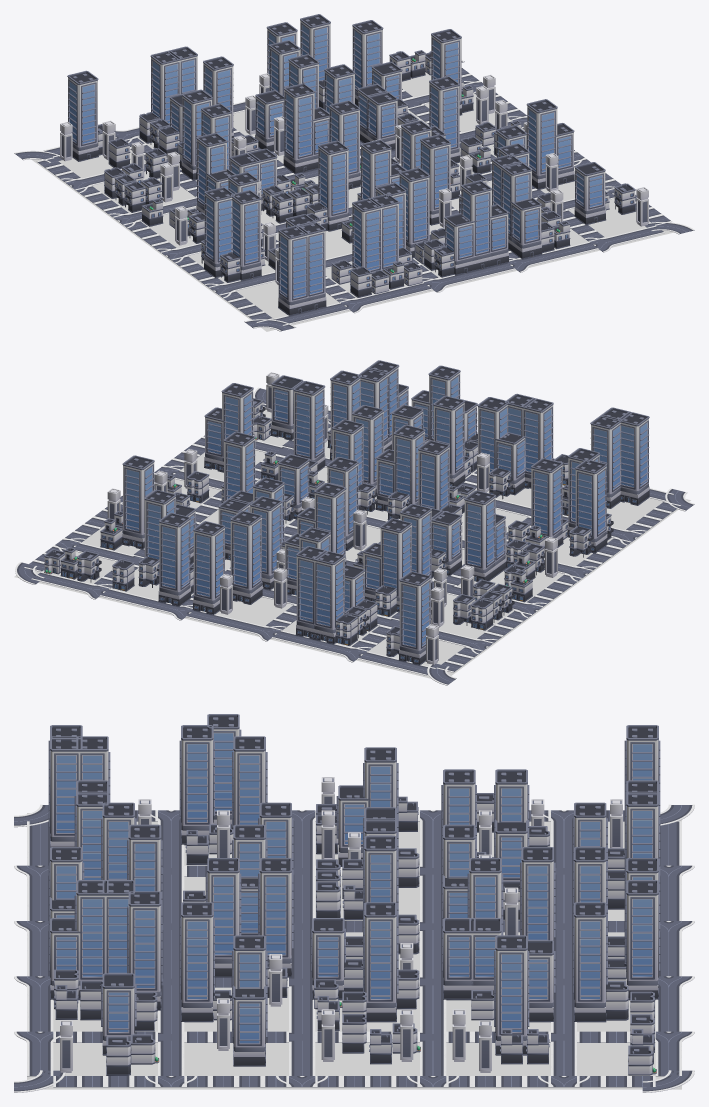
The model's file is city_map.glb.
The picture shows the model from 3 angles, top to bottom: view 1: azimuth 30°, elevation 25°; view 2: azimuth 150°, elevation 25°; view 3: azimuth 270°, elevation 25°; orthographic projection. The views are drawn at different scales.
Parts seen in each view (by area): view 1: land_City_Ground, shop-building-skyscraper-b.001, shop-building-skyscraper-b.025, building-skyscraper-b.033, building-skyscraper-b.019, shop-building-skyscraper-b.012, shop-building-skyscraper-b.014, building-skyscraper-b.018, shop-building-skyscraper-b.005, shop_building-skyscraper-b.003, shop_building-skyscraper-b.010, building-skyscraper-b.023 (+48 smaller); view 2: land_City_Ground, building-skyscraper-b.037, building-skyscraper-b.031, building-skyscraper-b.033, building-skyscraper-b.036, building-skyscraper-b.021, shop-building-skyscraper-b.001, building-skyscraper-b.034, shop-building-skyscraper-b.013, shop-building-skyscraper-b.014, shop_building-skyscraper-b.016, building-skyscraper-b.028 (+56 smaller); view 3: land_City_Ground, shop-building-skyscraper-b.013, building-skyscraper-b.032, building-skyscraper-b.023, building-skyscraper-b.037, shop-building-skyscraper-b.012, building-skyscraper-b.028, shop-building-skyscraper-b.011, shop-building-skyscraper-b.020, building-skyscraper-b.029, shop-building-skyscraper-b.015, building-skyscraper-b.002 (+71 smaller).
Part boxes in pixels (x1,y1,x2,y2): land_City_Ground: (31, 72, 673, 331); shop-building-skyscraper-b.001: (278, 225, 309, 315); shop-building-skyscraper-b.025: (283, 83, 315, 174); building-skyscraper-b.033: (67, 70, 98, 161); building-skyscraper-b.019: (318, 140, 348, 231); shop-building-skyscraper-b.012: (230, 190, 261, 280); shop-building-skyscraper-b.014: (203, 187, 235, 277); building-skyscraper-b.018: (526, 99, 557, 189); shop-building-skyscraper-b.005: (352, 198, 382, 272); shop_building-skyscraper-b.003: (461, 180, 492, 270); shop_building-skyscraper-b.010: (399, 167, 429, 258); building-skyscraper-b.023: (429, 76, 460, 162); land_City_Ground: (14, 409, 690, 678); building-skyscraper-b.037: (158, 512, 191, 606); building-skyscraper-b.031: (230, 510, 262, 604); building-skyscraper-b.033: (398, 571, 431, 665); building-skyscraper-b.036: (192, 521, 225, 614); building-skyscraper-b.021: (464, 490, 496, 581); shop-building-skyscraper-b.001: (618, 412, 649, 505); building-skyscraper-b.034: (313, 550, 345, 644); shop-building-skyscraper-b.013: (293, 381, 325, 472); shop-building-skyscraper-b.014: (575, 459, 607, 553); shop_building-skyscraper-b.016: (531, 458, 563, 547); building-skyscraper-b.028: (122, 455, 154, 549); land_City_Ground: (27, 813, 681, 1089); shop-building-skyscraper-b.013: (179, 902, 214, 1022); building-skyscraper-b.032: (572, 902, 607, 1022); building-skyscraper-b.023: (363, 902, 398, 1022); building-skyscraper-b.037: (624, 880, 660, 1000); shop-building-skyscraper-b.012: (179, 725, 214, 845); building-skyscraper-b.028: (494, 935, 529, 1055); shop-building-skyscraper-b.011: (127, 891, 162, 1011); shop-building-skyscraper-b.020: (258, 858, 293, 977); building-skyscraper-b.029: (520, 847, 555, 940); shop-building-skyscraper-b.015: (205, 858, 241, 977); building-skyscraper-b.002: (48, 736, 82, 847).
Bounding box in the file's own units: 26 × 4.58 × 26.
15 materials, 14 textured.
